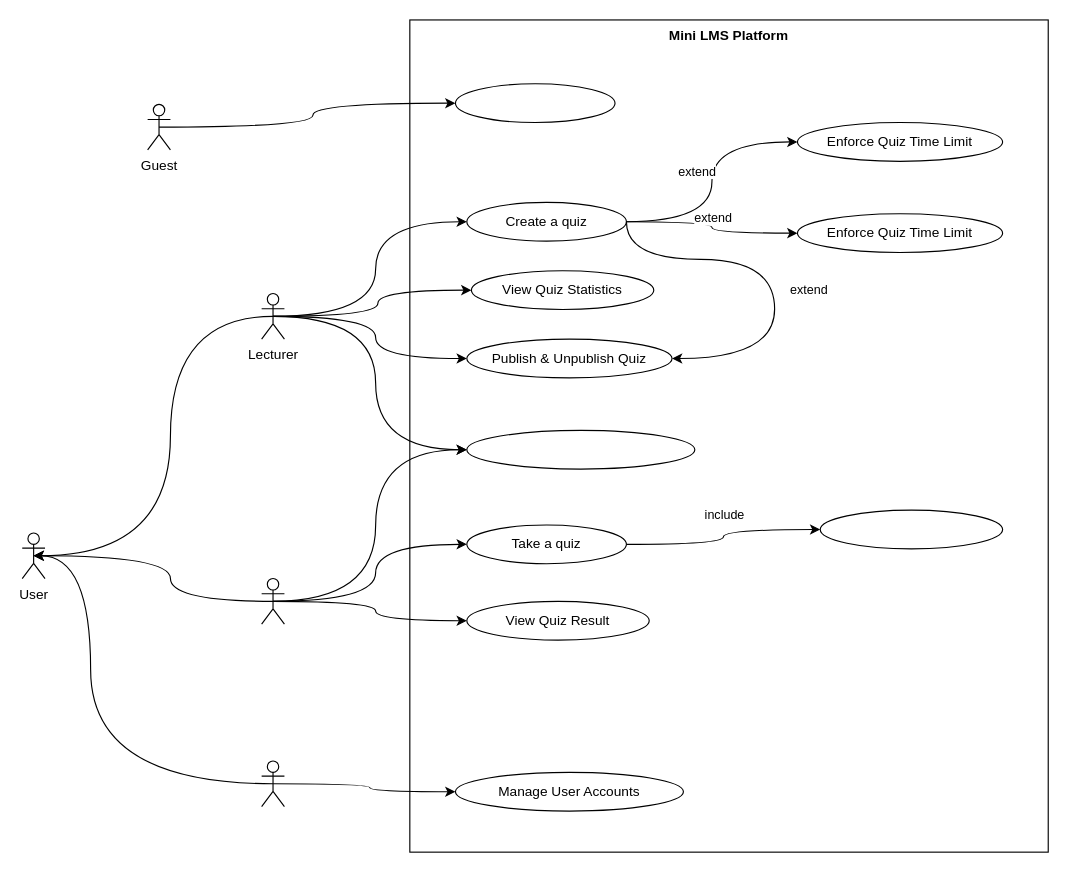
Some shapes in this 1068 by 872 pixel diagram are drawn without their labels. The shapes that lost their labels are listed below. From the top down, each one's centre as x and y in pixels, then its label:
At point (534, 103): "Login".
At point (580, 449): "View Attempt Audit History".
At point (911, 529): "Submit Quiz Attemp".
At point (272, 600): "Student".
At point (272, 783): "Admin".
